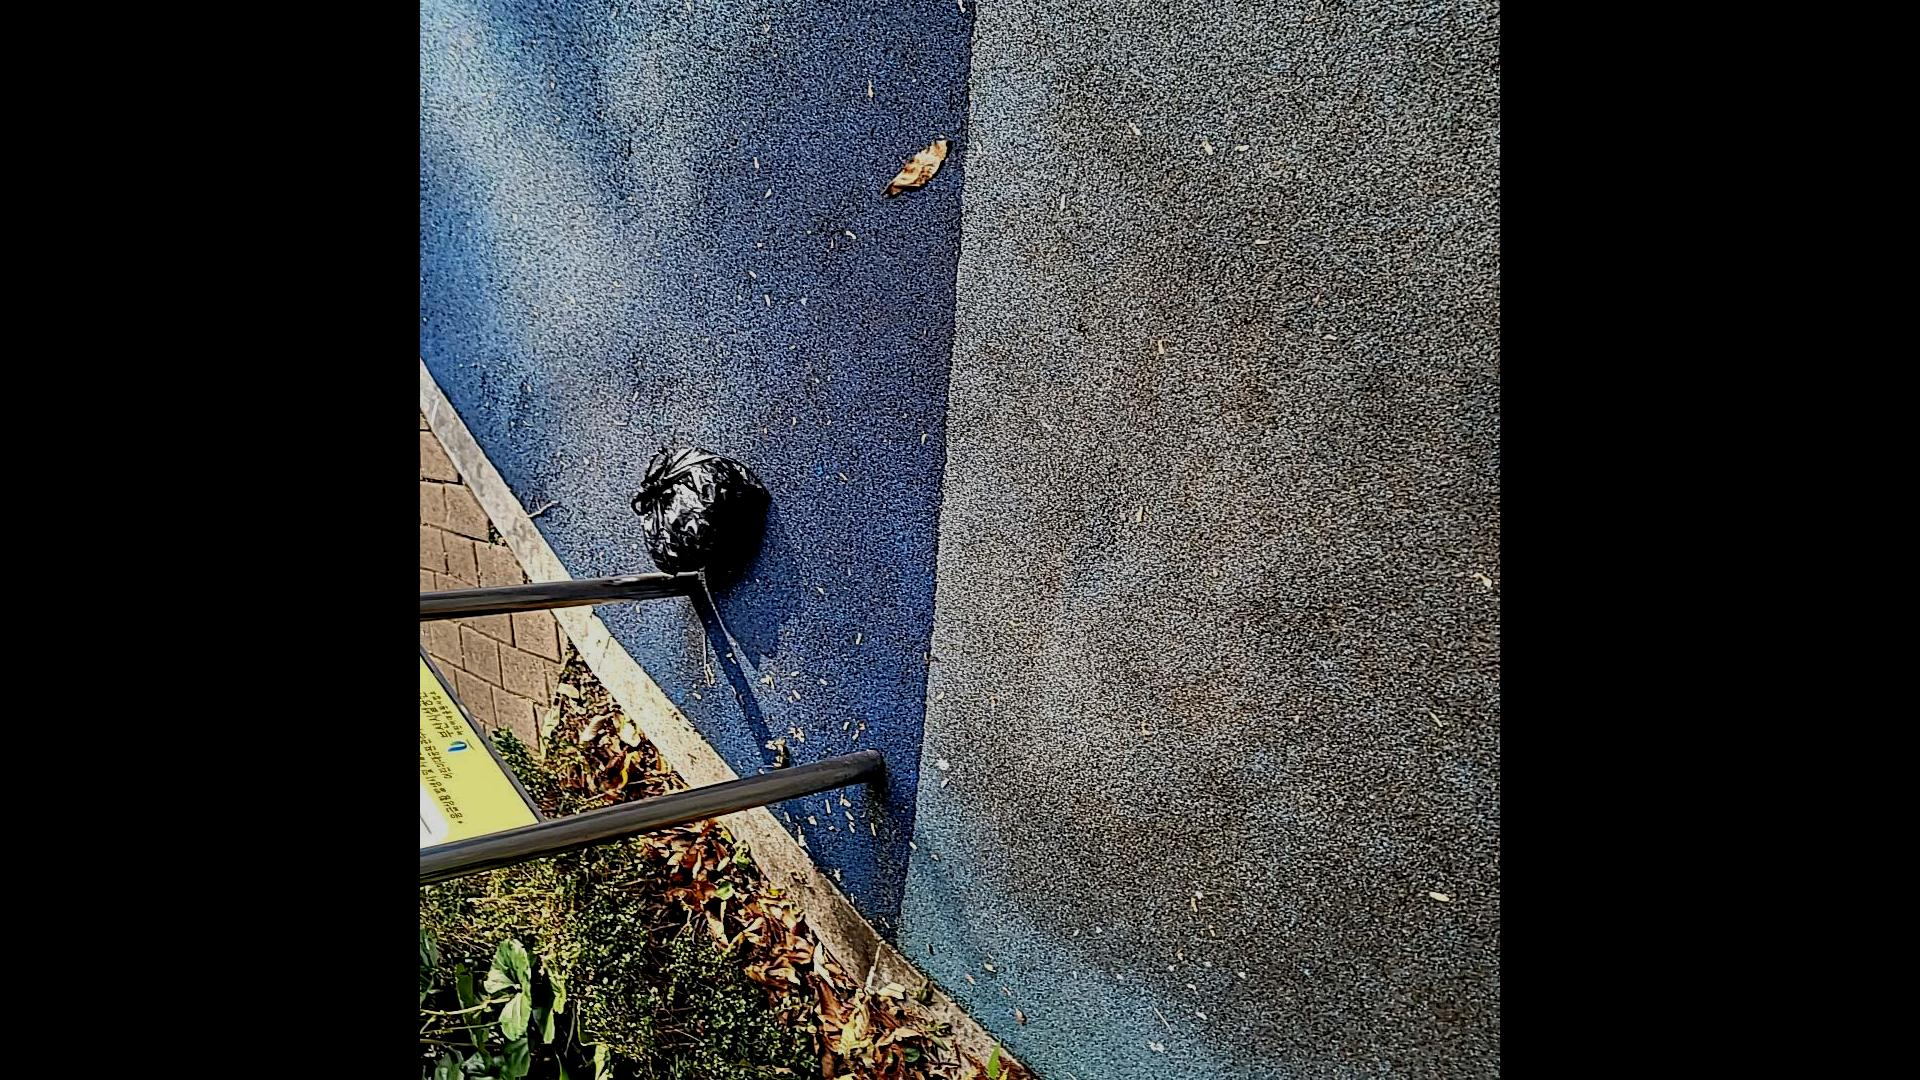black_bag: (629, 429, 774, 584)
